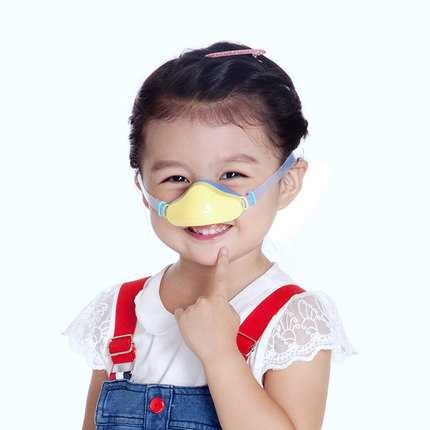face_mask: (144, 106, 276, 263)
